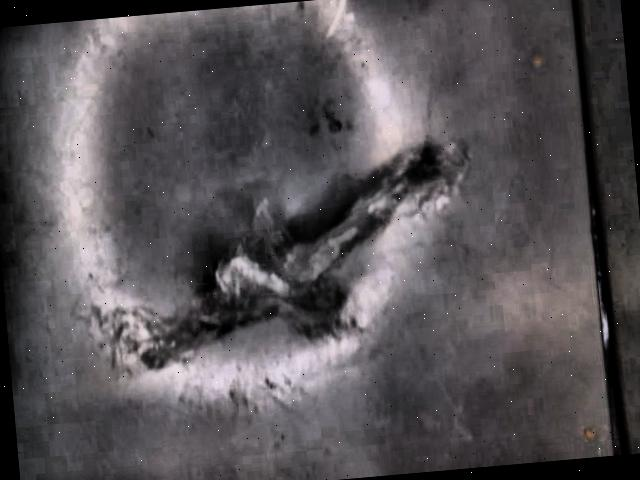Plastic: (87, 149, 472, 373)
